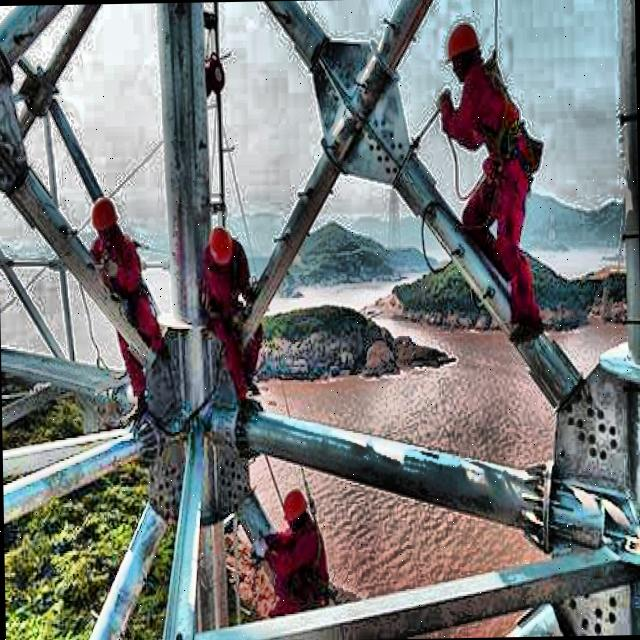helmet: (443, 16, 489, 90), (88, 189, 122, 243), (281, 485, 311, 532), (207, 222, 233, 270)
